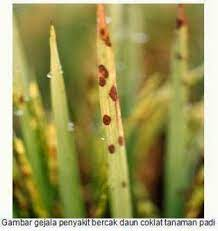Bercak Coklat: (99, 111, 114, 130), (95, 73, 109, 90), (108, 83, 119, 104), (97, 63, 110, 79), (105, 141, 116, 157)
